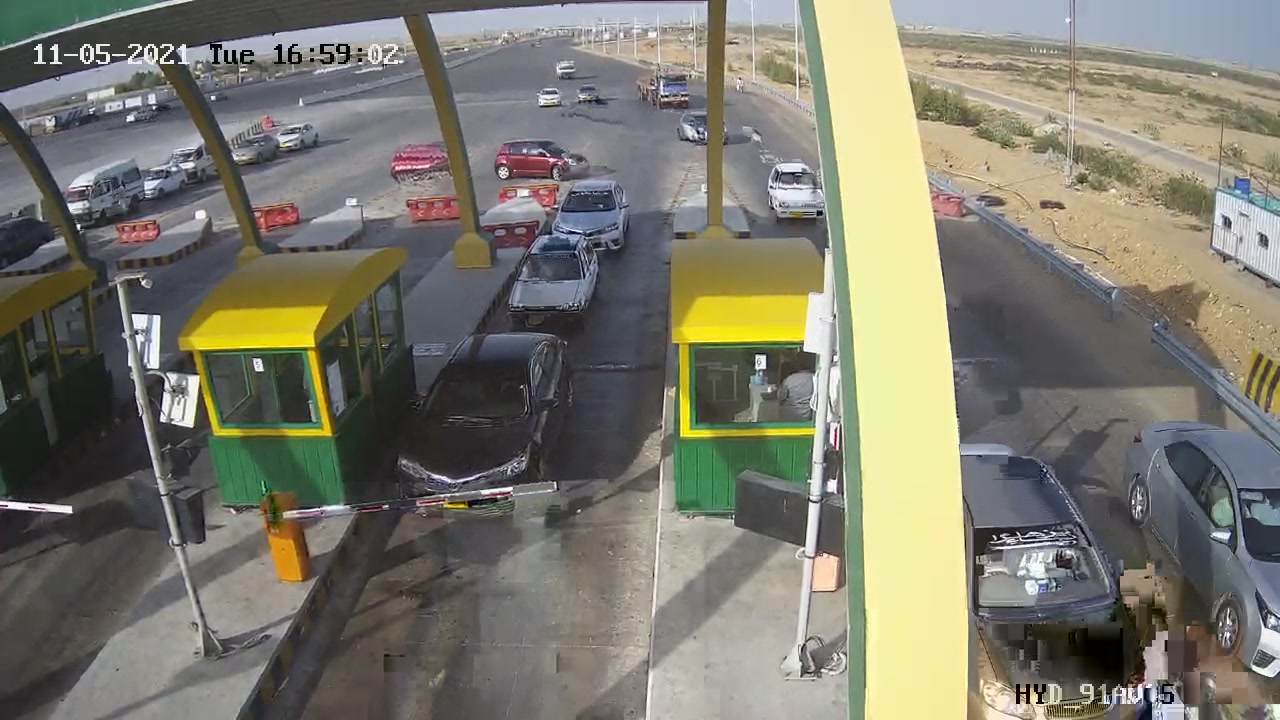F1: (381, 318, 587, 536), (537, 166, 644, 272)
